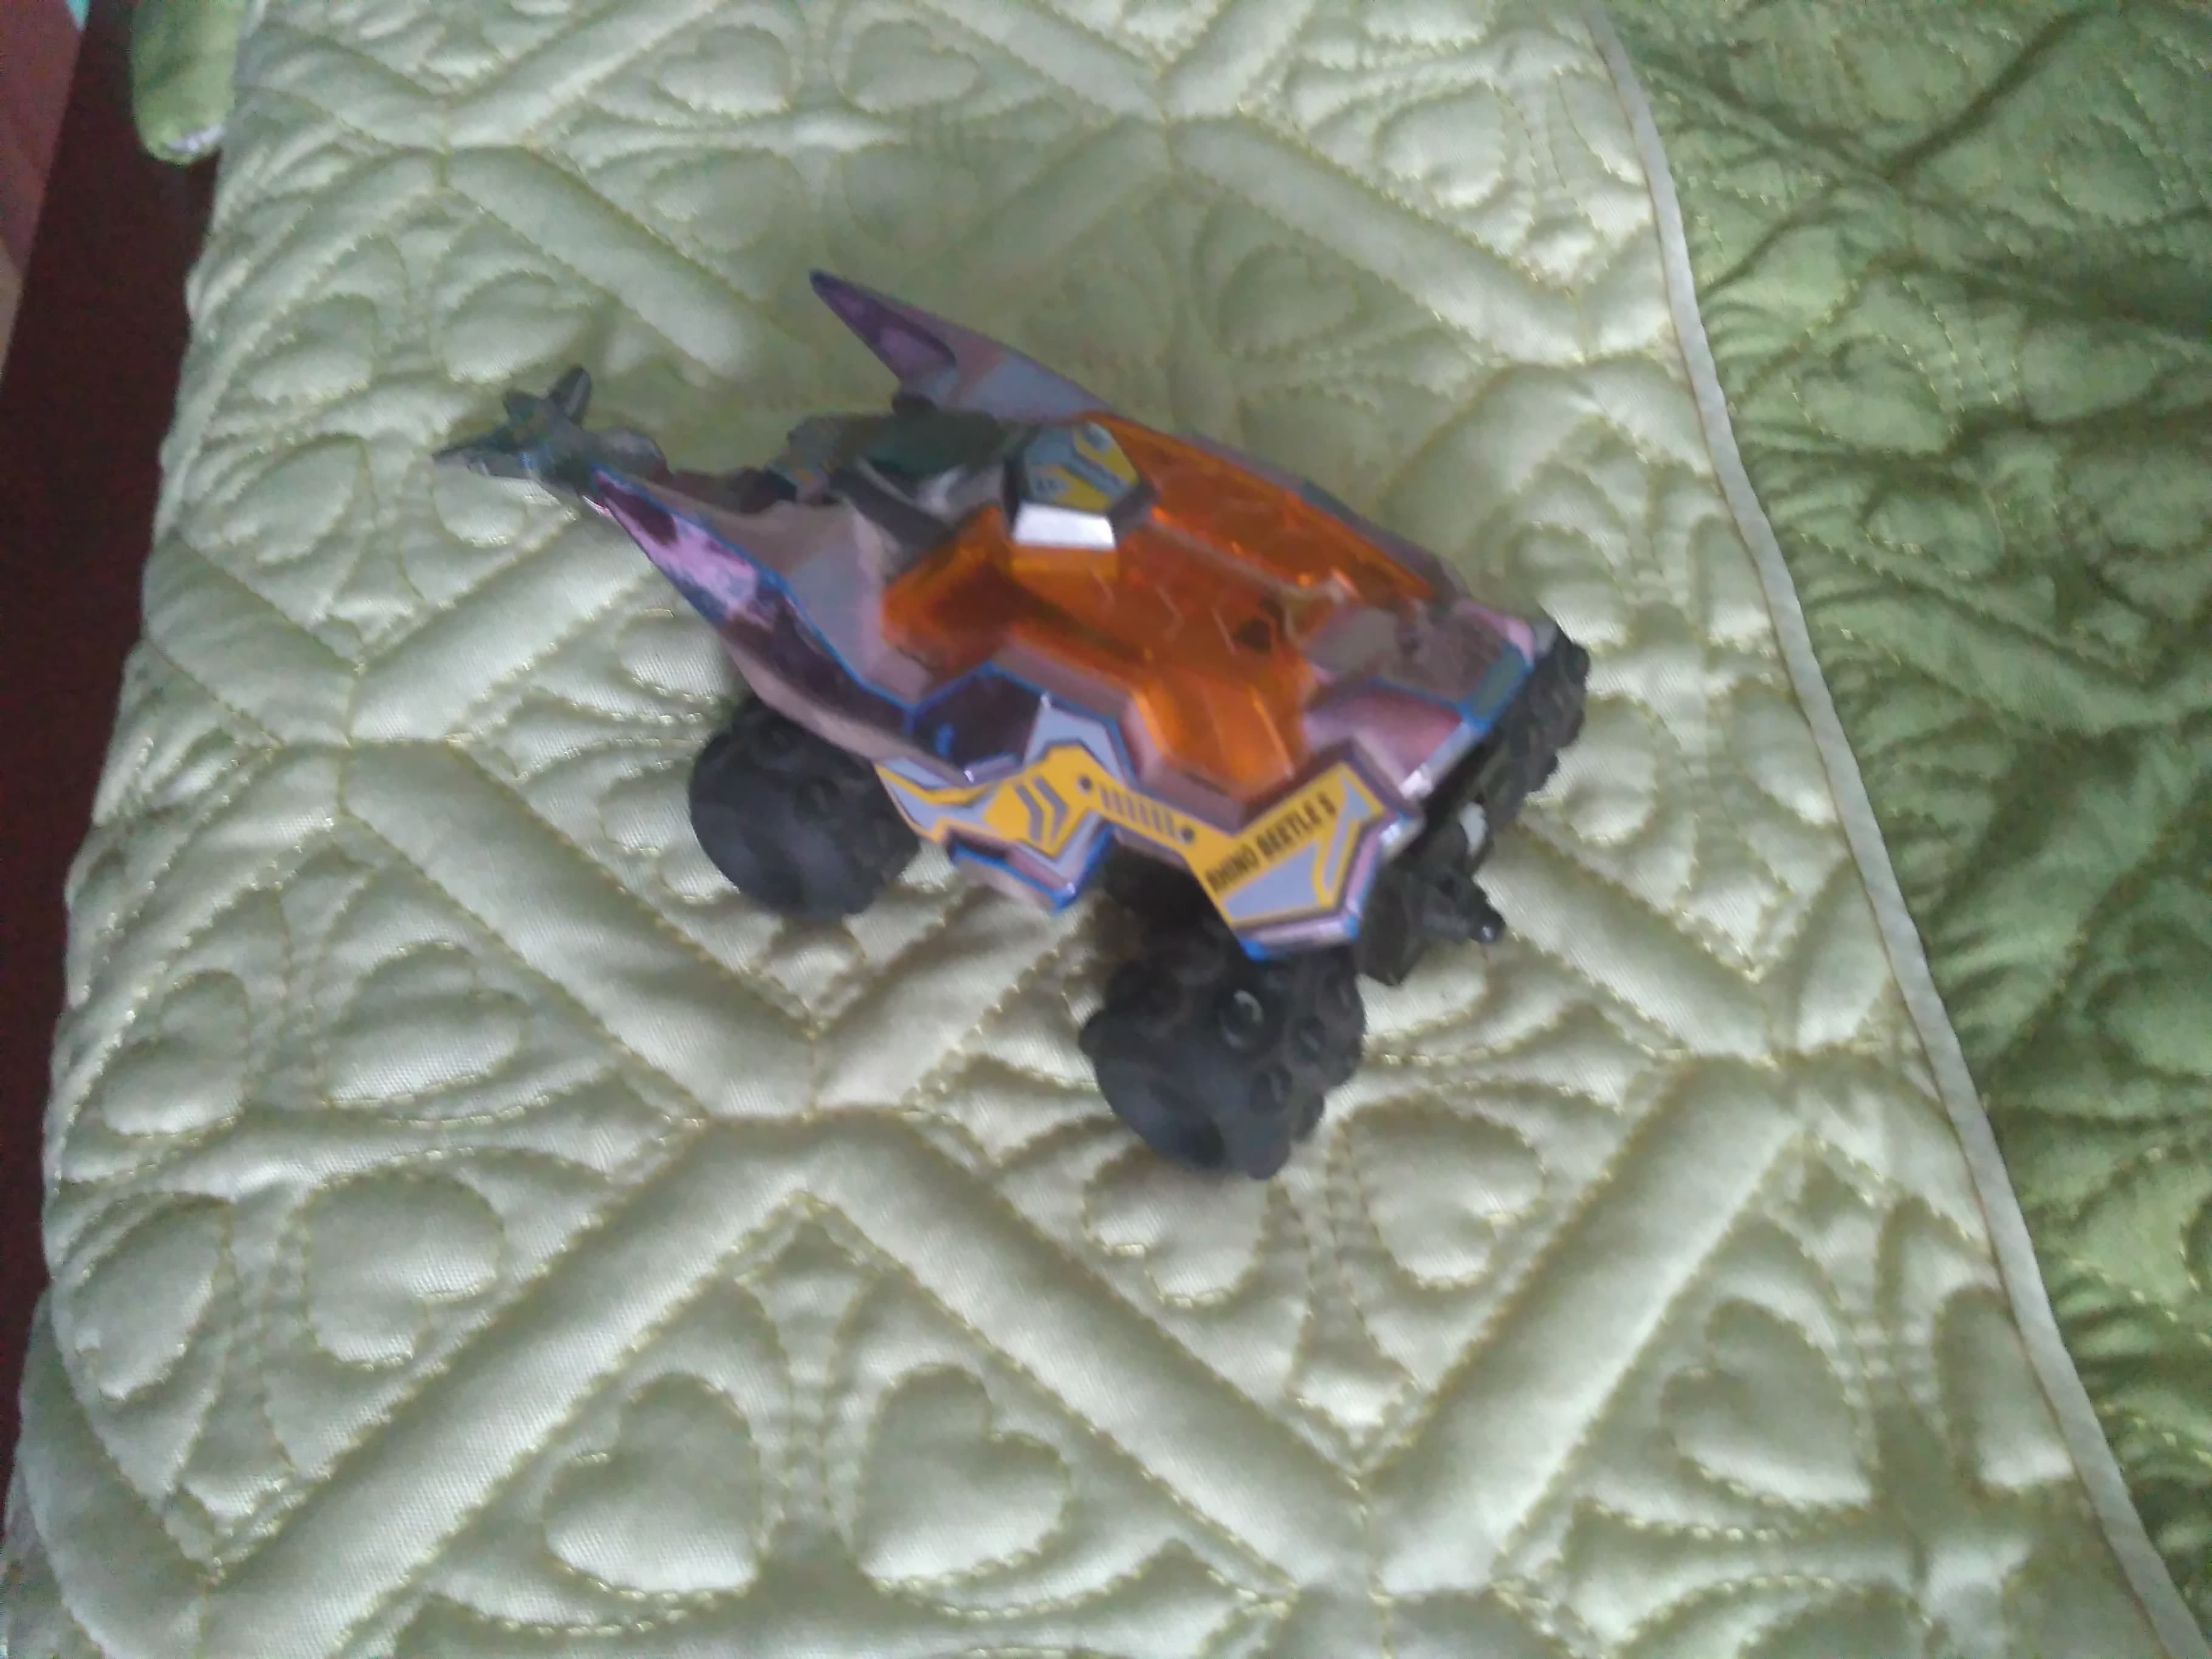rhino: (425, 267, 1599, 1188)
